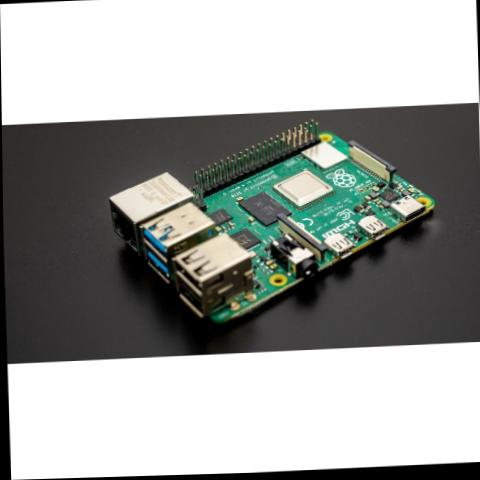Raspberry-Pi-4-Model-B: (99, 112, 442, 340)
